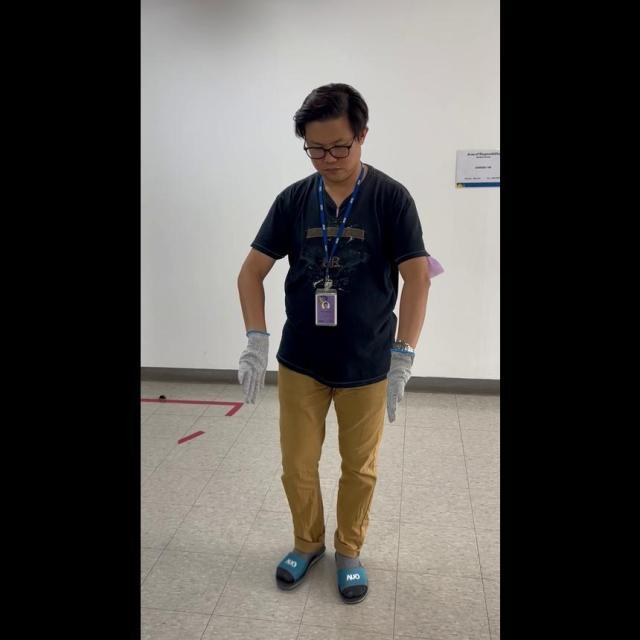gloved_hand: (234, 324, 272, 403), (380, 344, 416, 419)
